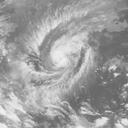cyclone: (17, 17, 90, 83)
